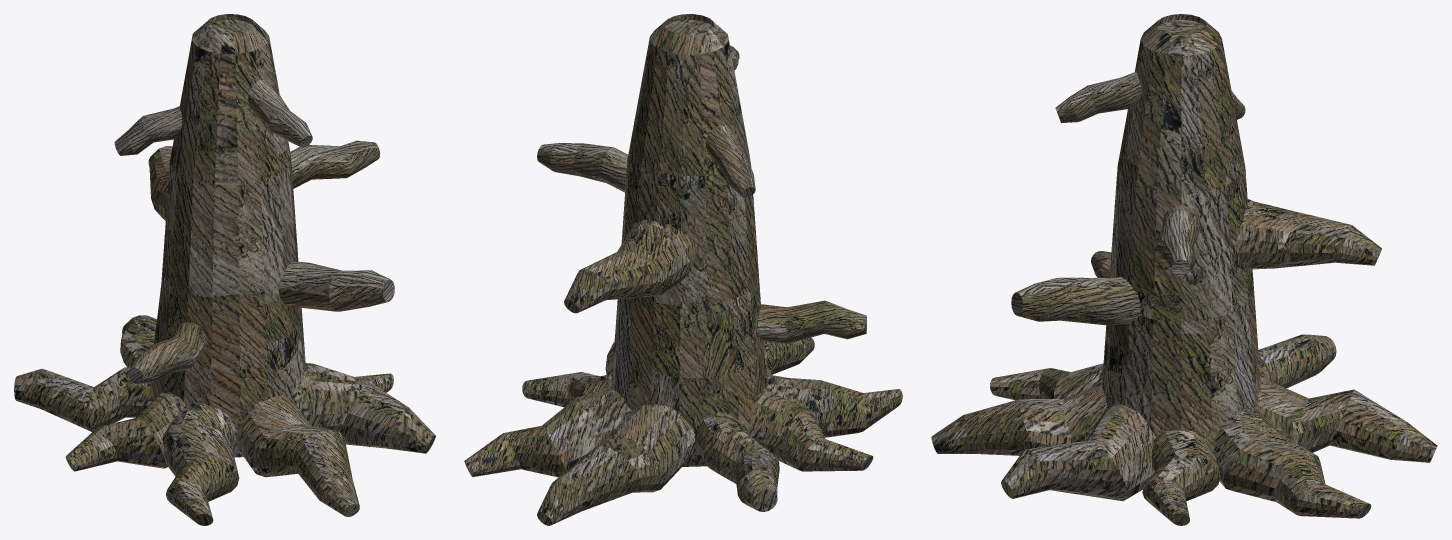
The model's file is tree.glb.
3 views of the same model, side by side, from view 1: azimuth 30°, elevation 25°; view 2: azimuth 150°, elevation 25°; view 3: azimuth 270°, elevation 25° (orthographic). The views are drawn at different scales.
Parts seen in each view (by area): view 1: Cylinder, Cylinder.002, Cylinder.001, Cylinder.004, Cylinder.003, Cylinder.005; view 2: Cylinder, Cylinder.004, Cylinder.001, Cylinder.005; view 3: Cylinder, Cylinder.002, Cylinder.003, Cylinder.001.
Part boxes in pixels (left/top/right/bottom): Cylinder: left=14, top=14, right=435, bottom=525; Cylinder.002: left=278, top=261, right=394, bottom=311; Cylinder.001: left=290, top=140, right=379, bottom=188; Cylinder.004: left=128, top=322, right=206, bottom=383; Cylinder.003: left=248, top=79, right=312, bottom=147; Cylinder.005: left=114, top=106, right=182, bottom=155; Cylinder: left=464, top=14, right=902, bottom=525; Cylinder.004: left=757, top=300, right=866, bottom=343; Cylinder.001: left=537, top=143, right=628, bottom=192; Cylinder.005: left=706, top=124, right=755, bottom=197; Cylinder: left=931, top=14, right=1437, bottom=525; Cylinder.002: left=1011, top=277, right=1140, bottom=325; Cylinder.003: left=1055, top=72, right=1141, bottom=123; Cylinder.001: left=1156, top=205, right=1200, bottom=276.
Bounding box in the file's own units: 384 × 467 × 486.
1 material, 1 textured.
